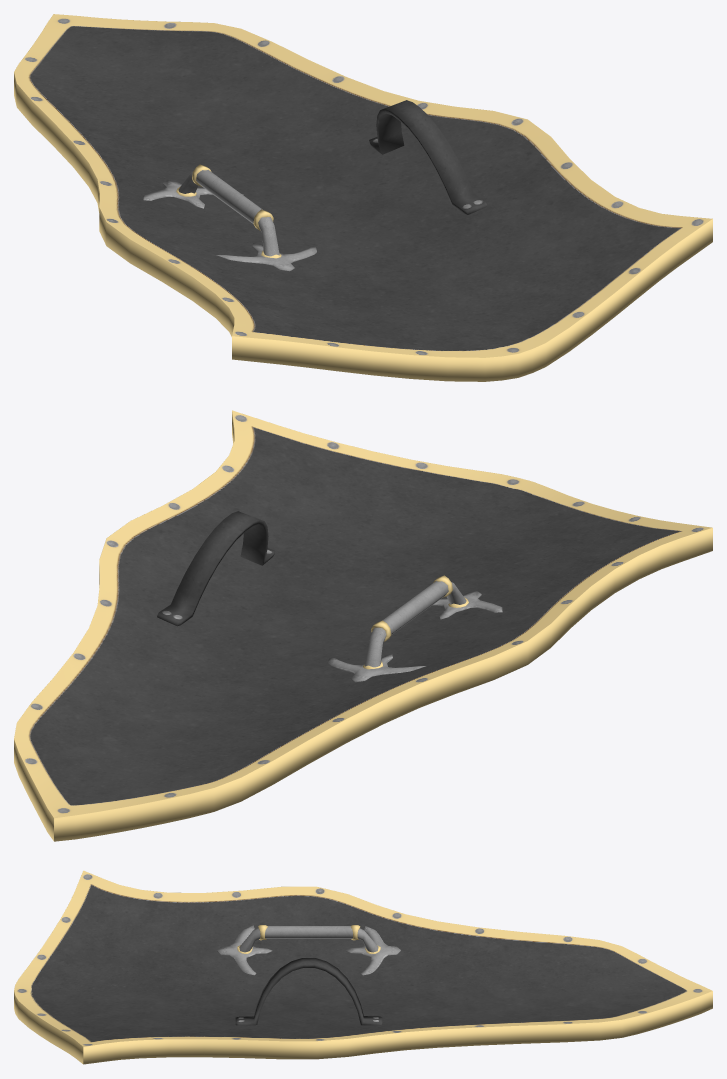
Rendered from Shield.gltf.
3 renders of one model, top to bottom at view 1: azimuth 30°, elevation 25°; view 2: azimuth 150°, elevation 25°; view 3: azimuth 270°, elevation 25°, orthographic. The views are drawn at different scales.
Visible parts, largest first — view 1: Shield; view 2: Shield; view 3: Shield.
Boxes of the visible parts, x1,y1,x2,y2 form: Shield: [14, 14, 712, 381]; Shield: [14, 410, 712, 841]; Shield: [14, 870, 712, 1064].
Size of the model in its own units: 1.69 by 0.387 by 2.82.
1 material, 1 textured.
